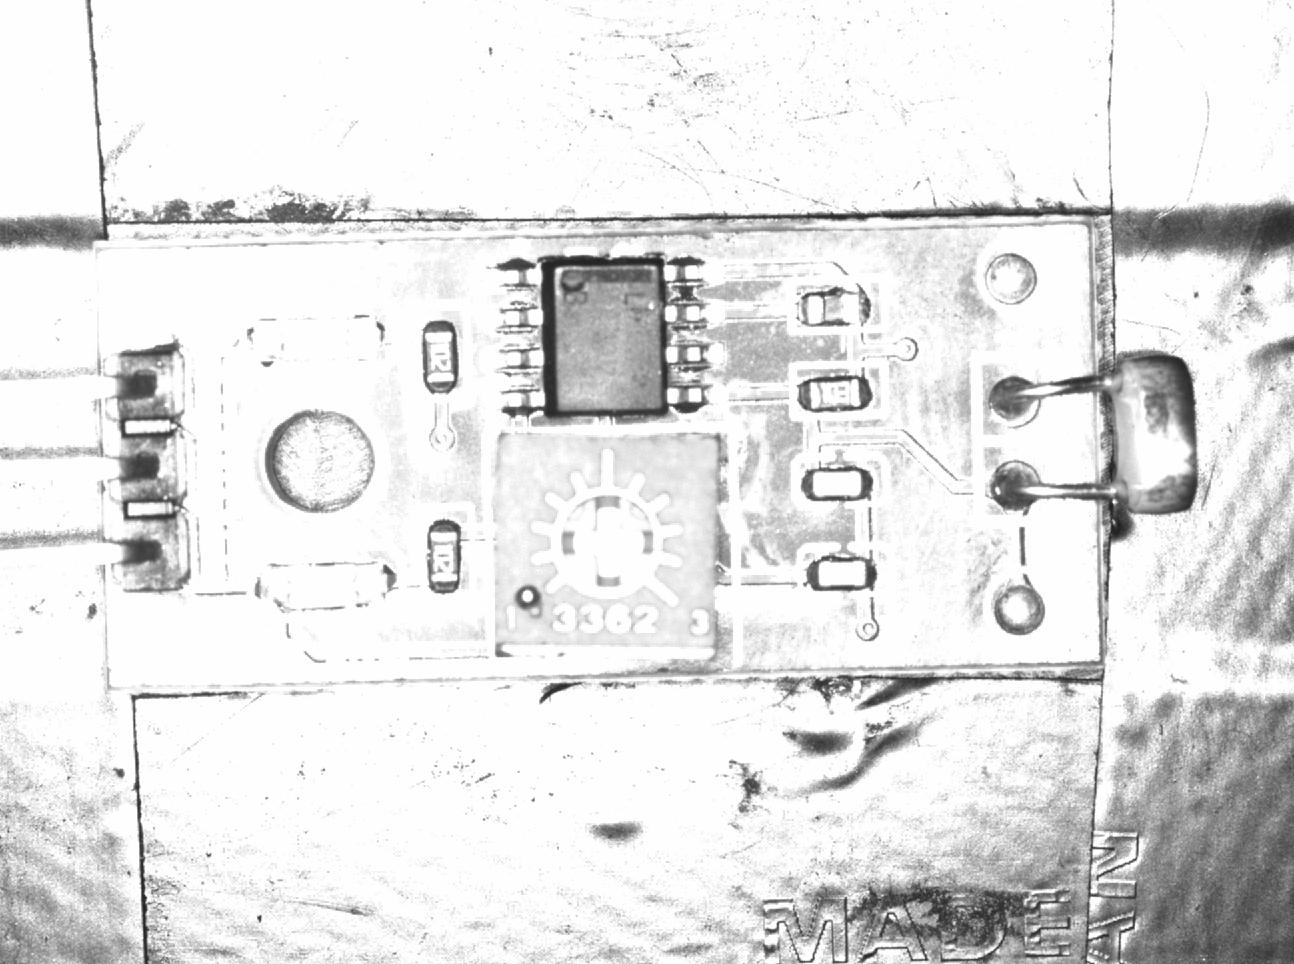miss: (788, 282, 884, 335)
ok: (411, 506, 473, 608), (786, 359, 886, 421), (411, 304, 466, 405), (793, 456, 885, 514), (796, 546, 885, 602)
